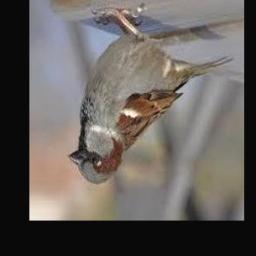Sparrow: (67, 9, 232, 185)
